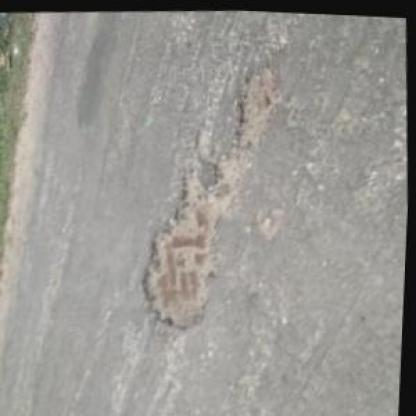pothole: (131, 147, 256, 336), (230, 57, 287, 152)
